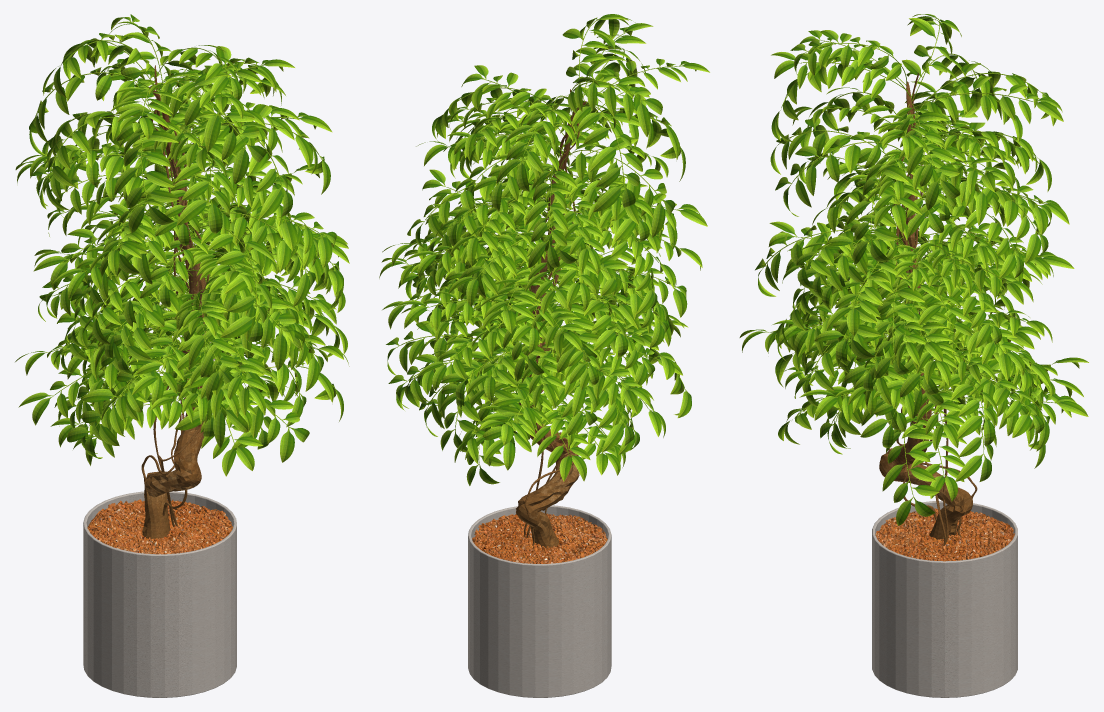
The model's file is Plant house 2 N261220.obj.
3 views of the same model, side by side, from view 1: azimuth 30°, elevation 25°; view 2: azimuth 150°, elevation 25°; view 3: azimuth 270°, elevation 25° (orthographic). The views are drawn at different scales.
Parts seen in each view (by area): view 1: Arch41_010_obj_3, Arch41_010_obj_2, Arch41_010_obj_5, Arch41_010_obj_6, Arch41_010_obj_4, Arch41_010_obj_1; view 2: Arch41_010_obj_3, Arch41_010_obj_2, Arch41_010_obj_5, Arch41_010_obj_6, Arch41_010_obj_4, Arch41_010_obj_1; view 3: Arch41_010_obj_3, Arch41_010_obj_2, Arch41_010_obj_5, Arch41_010_obj_6, Arch41_010_obj_4, Arch41_010_obj_1.
Part boxes in pixels (box(x1,y1,x2,y2)): Arch41_010_obj_3: box(29, 33, 347, 462); Arch41_010_obj_2: box(15, 14, 349, 476); Arch41_010_obj_5: box(83, 491, 236, 697); Arch41_010_obj_6: box(87, 499, 232, 554); Arch41_010_obj_4: box(142, 87, 205, 540); Arch41_010_obj_1: box(141, 65, 215, 526); Arch41_010_obj_3: box(386, 14, 691, 485); Arch41_010_obj_2: box(379, 23, 709, 481); Arch41_010_obj_5: box(468, 505, 611, 697); Arch41_010_obj_6: box(472, 513, 607, 563); Arch41_010_obj_4: box(516, 101, 586, 547); Arch41_010_obj_1: box(524, 89, 579, 545); Arch41_010_obj_3: box(755, 14, 1056, 525); Arch41_010_obj_2: box(739, 30, 1088, 501); Arch41_010_obj_5: box(872, 500, 1017, 697); Arch41_010_obj_6: box(875, 508, 1014, 561); Arch41_010_obj_4: box(879, 81, 972, 539); Arch41_010_obj_1: box(893, 73, 977, 545).
Bounding box in the file's own units: 8.29 × 16.25 × 8.24.
